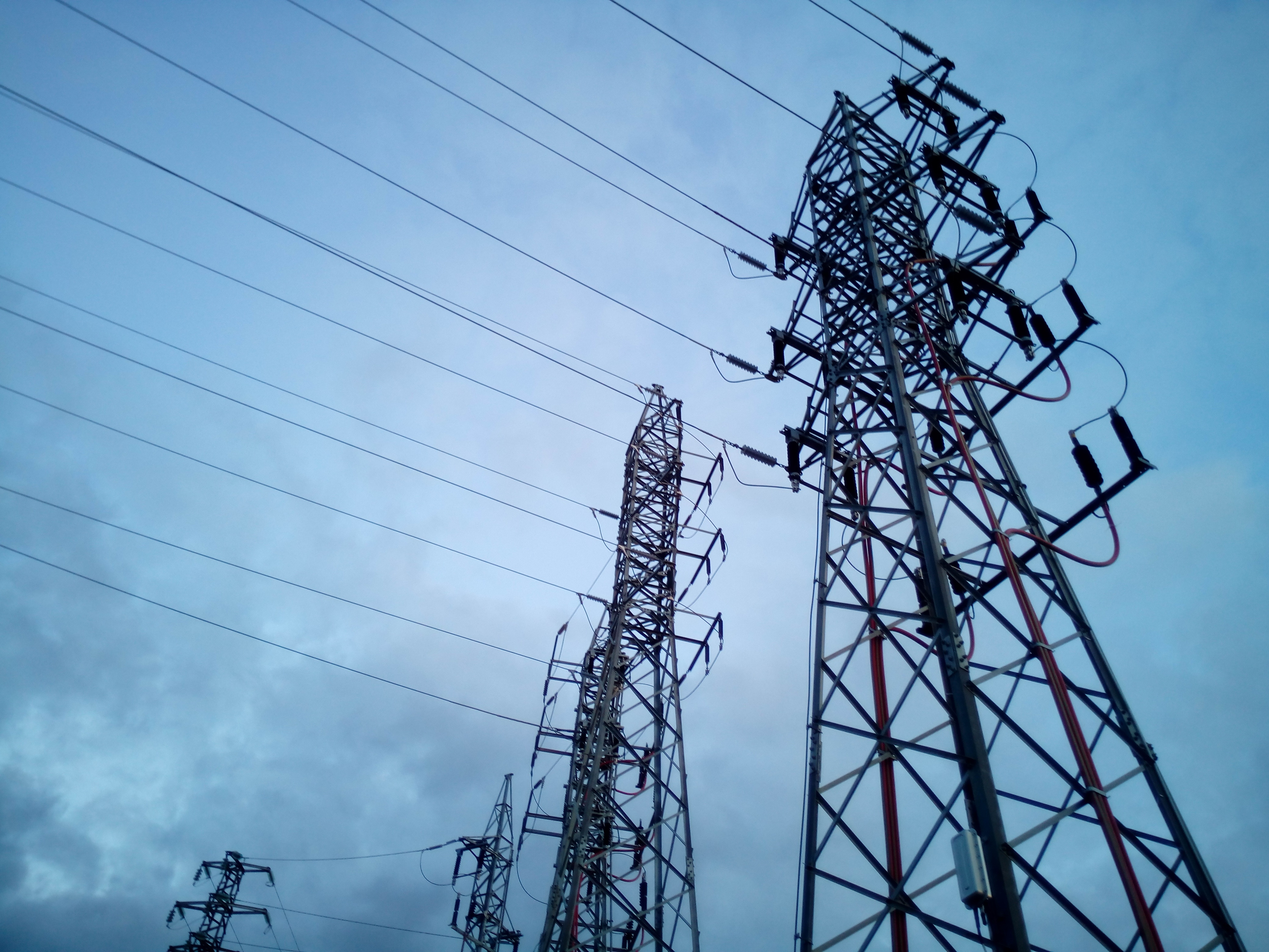insulator: (951, 204, 1004, 239), (890, 24, 938, 58), (936, 76, 984, 109), (740, 441, 781, 470), (727, 349, 762, 377), (736, 245, 763, 269)
